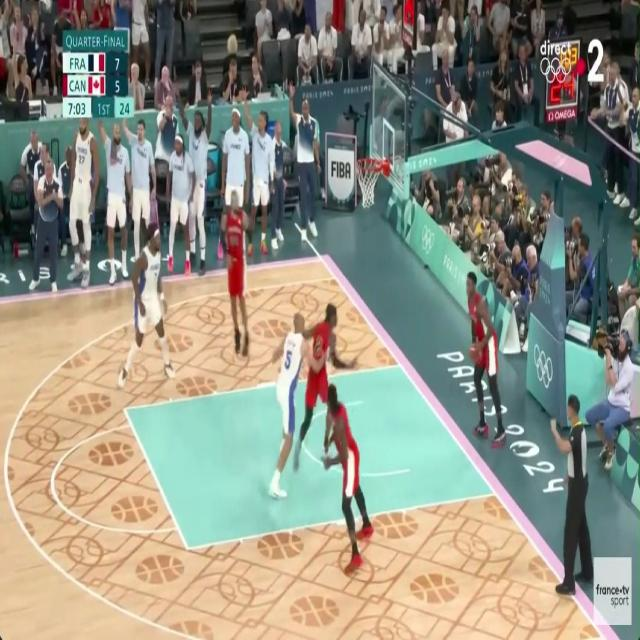ball_handler: (455, 259, 509, 450)
